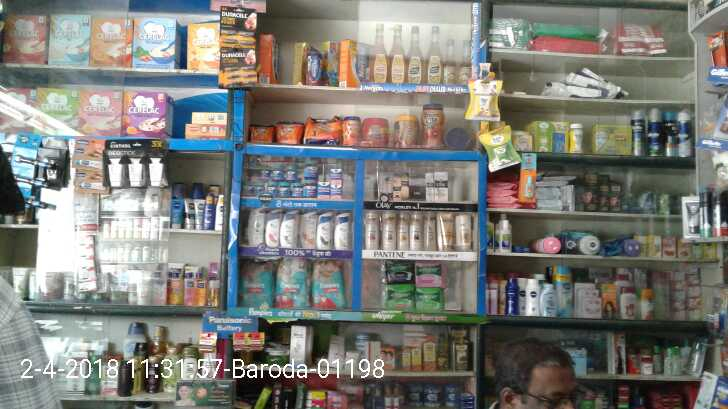vicks: (331, 181, 348, 199), (304, 161, 318, 181), (305, 181, 320, 197), (277, 181, 293, 195), (270, 164, 283, 181), (329, 164, 344, 178), (263, 181, 277, 193), (254, 177, 263, 193), (320, 182, 329, 197), (293, 183, 303, 195), (288, 164, 295, 176)
